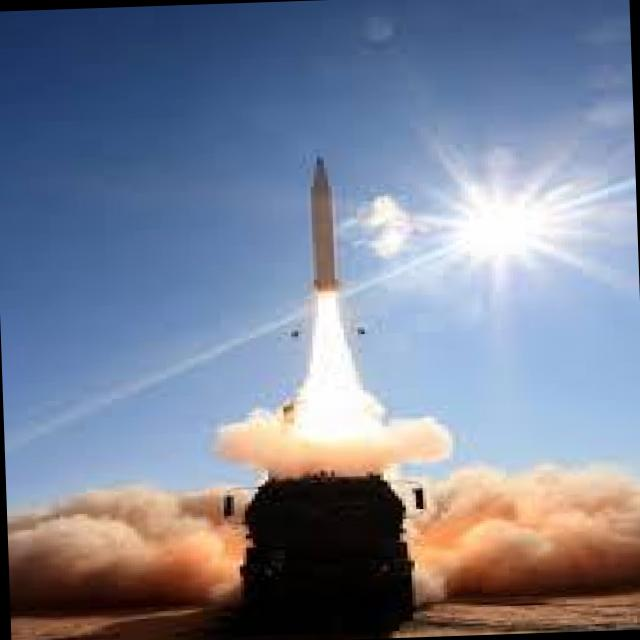rocket: (288, 148, 365, 441)
